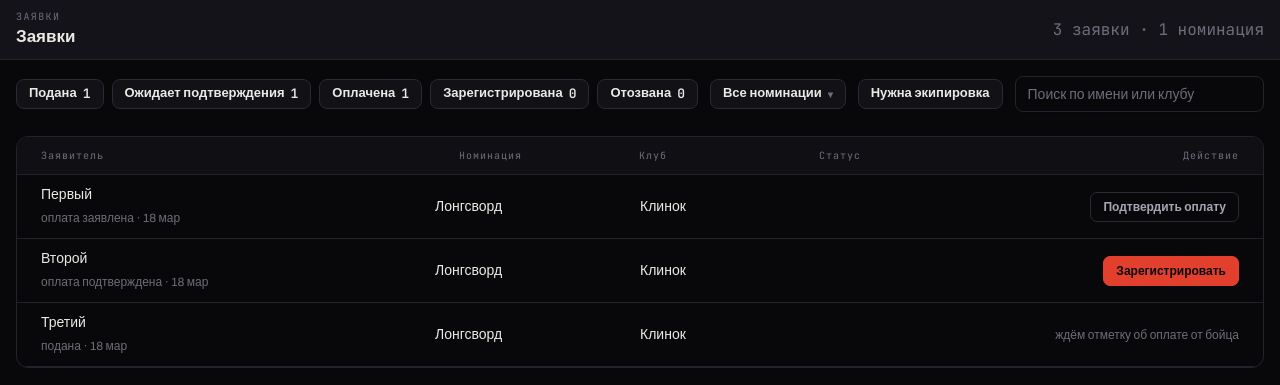
it: ApplicationsScreen › supports multi-select of statuses (AC-3)
This screenshot has width=1280, height=385.
Click the button "Ожидает подтверждения 1" at (211, 94), box [112,79,311,109]
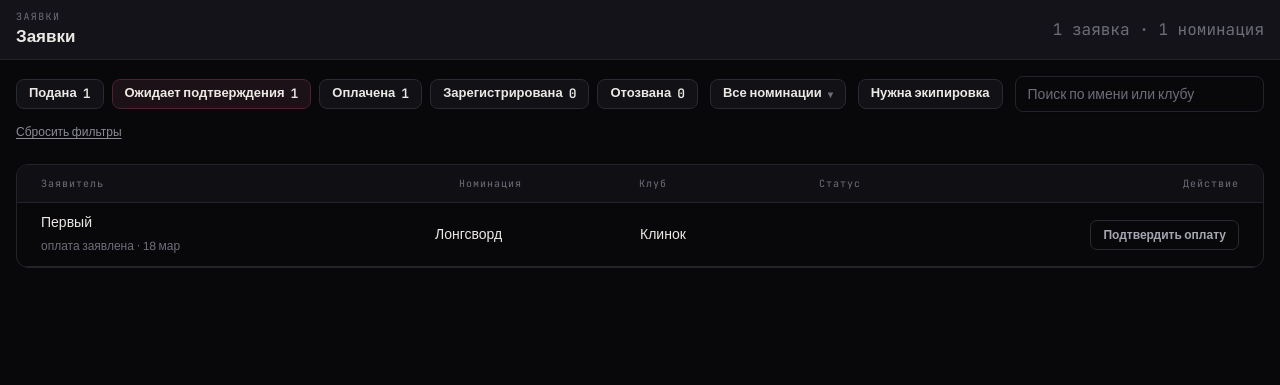
Click the button "Оплачена 1" at (371, 94), box [319,79,422,109]
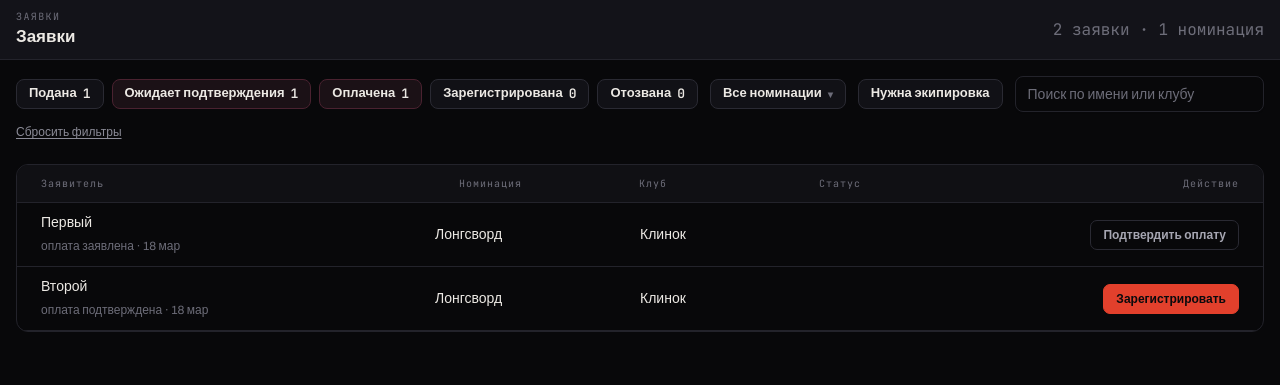
Expected: the text "Первый" is shown, [41,214,92,230]
Result: the text "Второй" is shown at [41,278,87,294]
